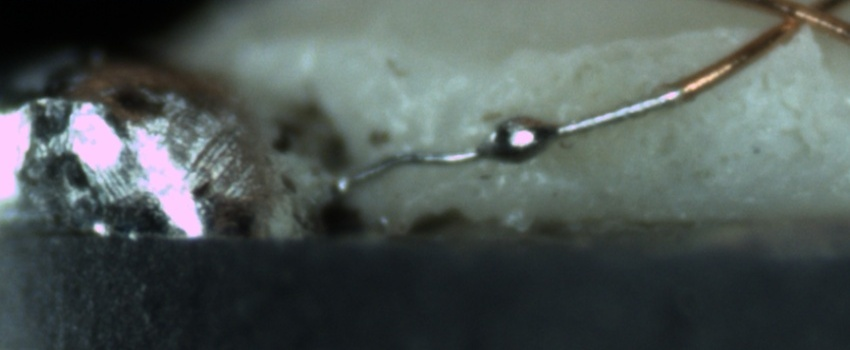CL: (758, 0, 843, 45)
TB: (483, 115, 551, 165)
TS: (339, 86, 684, 189)
TTCW: (329, 59, 724, 198)
